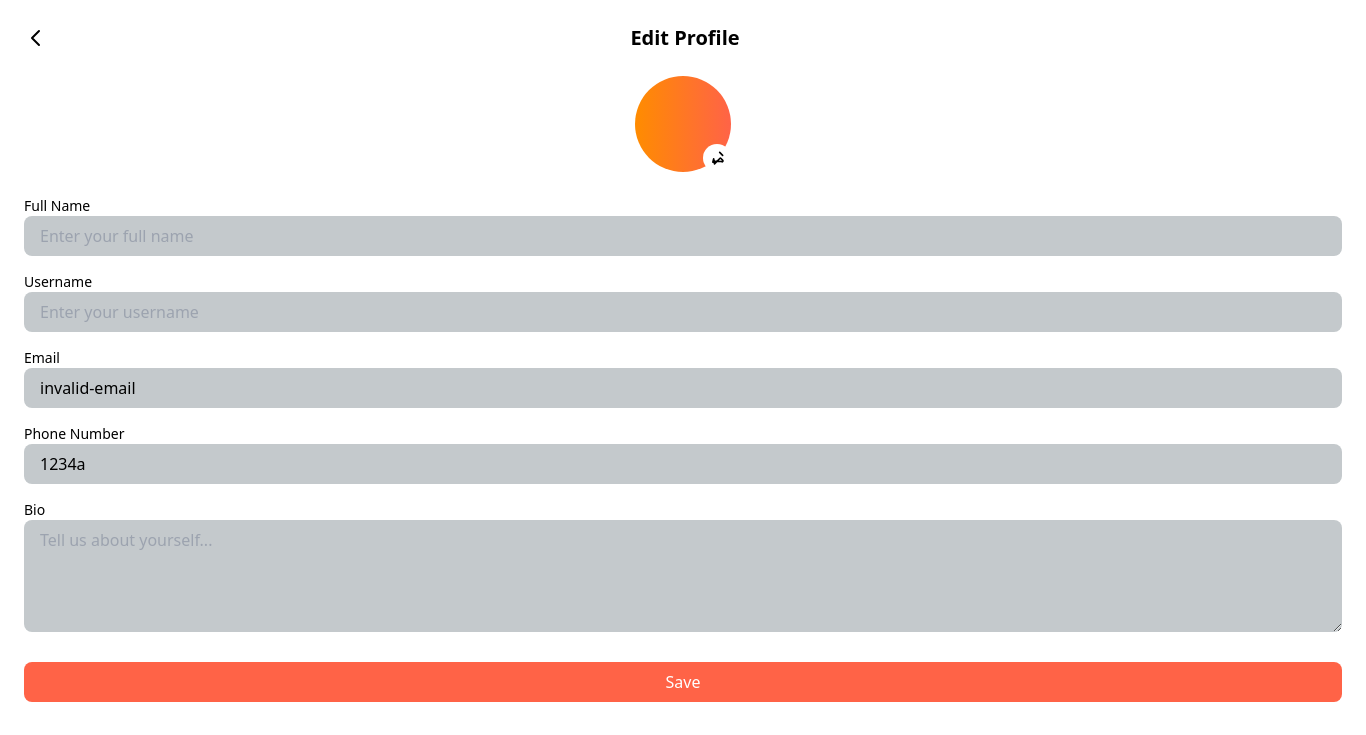
Scenario: Edit Component › displays error when the form is submitted with invalid data
This screenshot has width=1366, height=735.
Click the button "Save".
click(683, 682)  # box [24,662,1342,702]
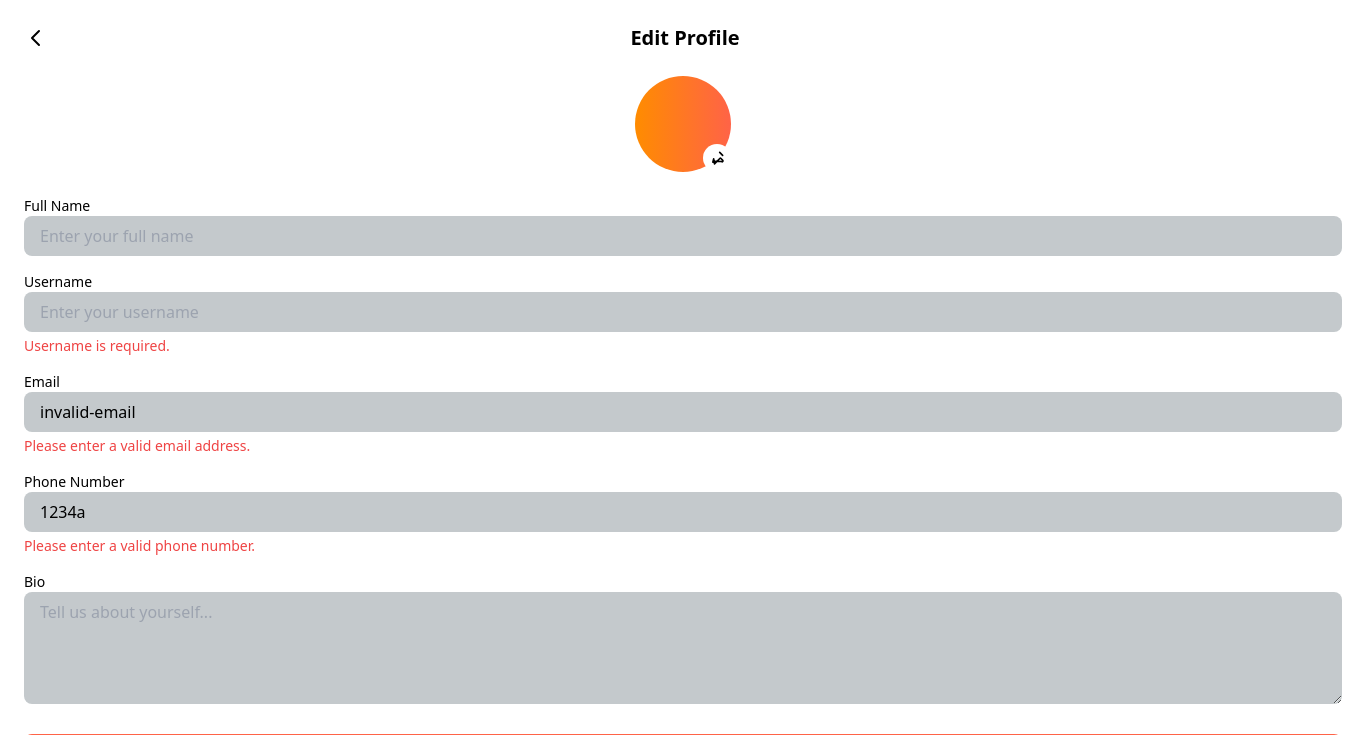
Now the text "Username is required." is shown, box [24,336,170,355]
Now the text "Please enter a valid email address." is shown, box [24,436,250,455]
Now the text "Please enter a valid phone number." is shown, box [24,536,255,555]
